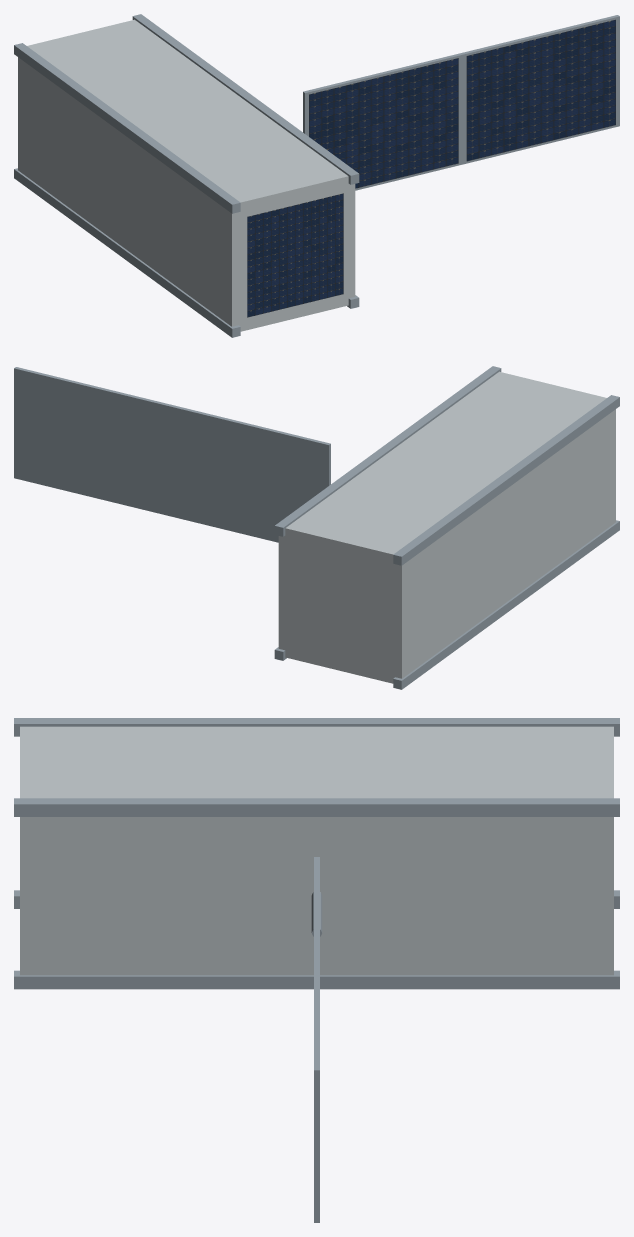
The model's file is ref-cubesat-3u-40074.glb.
3 views of the same model, one above another, from view 1: azimuth 30°, elevation 25°; view 2: azimuth 150°, elevation 25°; view 3: azimuth 270°, elevation 25° (orthographic). The views are drawn at different scales.
Visible parts, largest first — view 1: Spacecraft body, Photovoltaic laminates (×2), Body-mounted cells, Dispenser rail (×3), Array frame (×2); view 2: Spacecraft body, Array frame (×2), Dispenser rail (×3); view 3: Spacecraft body, Dispenser rail (×3), Array frame.
Part boxes in pixels (<box>): Spacecraft body: <box>18,19,355,331</box>; Photovoltaic laminates (×2): <box>309,19,615,188</box>; Body-mounted cells: <box>247,193,343,317</box>; Dispenser rail (×3): <box>14,14,359,337</box>; Array frame (×2): <box>303,15,619,190</box>; Spacecraft body: <box>278,371,615,683</box>; Array frame (×2): <box>14,367,330,542</box>; Dispenser rail (×3): <box>274,366,619,689</box>; Spacecraft body: <box>20,726,613,975</box>; Dispenser rail (×3): <box>14,718,619,989</box>; Array frame: <box>314,963,319,1222</box>.
Size of the model in its own units: 0.4015 by 0.103 by 0.306.
3 materials, 1 textured.
